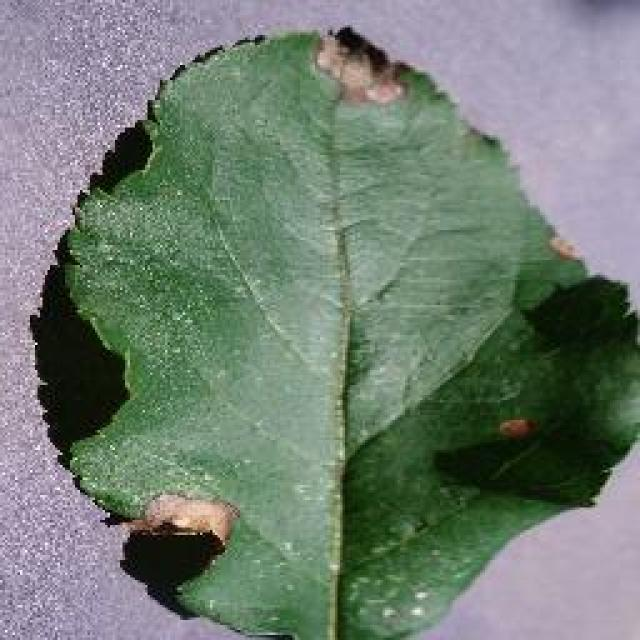apple black rot: (28, 22, 638, 638)
